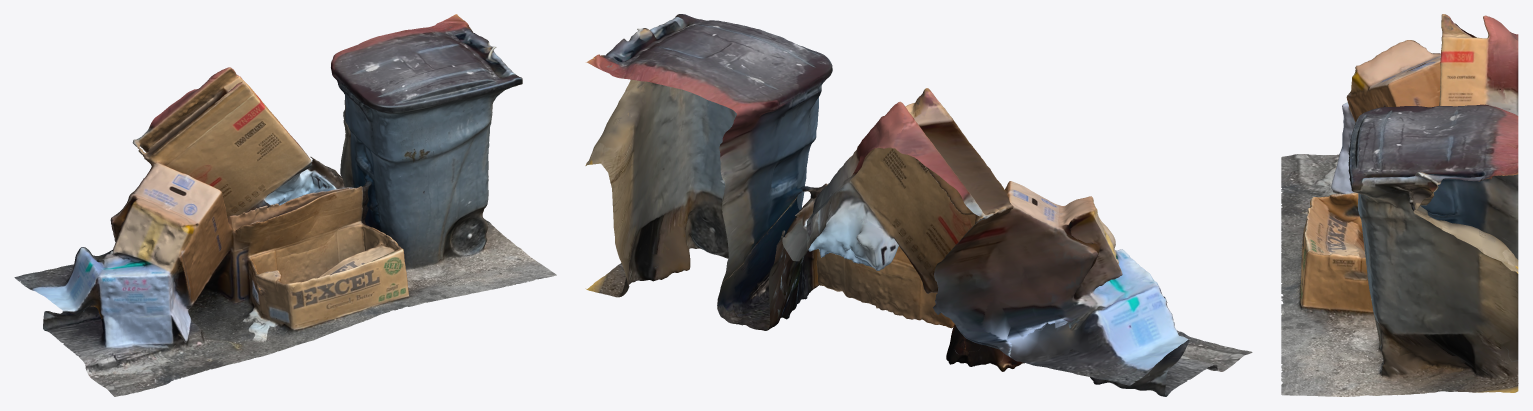
File: Street Trash 01.fbx
The picture shows the model from 3 angles, left to right: view 1: azimuth 30°, elevation 25°; view 2: azimuth 150°, elevation 25°; view 3: azimuth 270°, elevation 25°; orthographic projection. The views are drawn at different scales.
Visible parts, largest first — view 1: Model; view 2: Model; view 3: Model.
Boxes of the visible parts, <box> form: Model: <box>14,14,556,396</box>; Model: <box>585,14,1252,396</box>; Model: <box>1281,14,1518,396</box>.
Bounding box in the file's own units: 2.64 × 1.04 × 1.24.
Materials: 1 (1 with a texture image).
